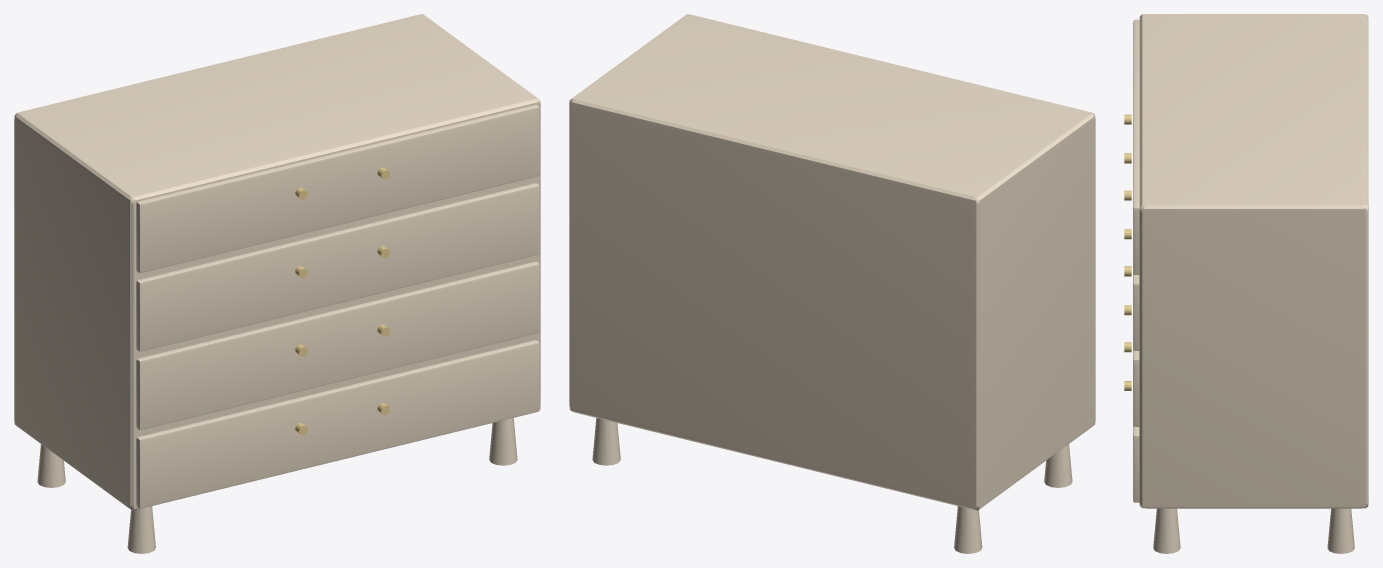
Rendered from dresser.glb.
The picture shows the model from 3 angles, left to right: view 1: azimuth 30°, elevation 25°; view 2: azimuth 150°, elevation 25°; view 3: azimuth 270°, elevation 25°; orthographic projection. The views are drawn at different scales.
Parts seen in each view (by area): view 1: Cube, Cube.004, Cube.003, Cube.001, Cube.002, Cone.001, Cone.003, Cone; view 2: Cube, Cone, Cone.002, Cone.001; view 3: Cube, Cube.004, Cone.002, Cone.003, Cube.002, Cube.001, Cube.003.
Boxes of the visible parts, x1,y1,x2,y2 form: Cube: (14, 14, 540, 510); Cube.004: (136, 104, 539, 273); Cube.003: (136, 183, 539, 351); Cube.001: (136, 340, 539, 508); Cube.002: (136, 261, 539, 429); Cone.001: (127, 506, 155, 553); Cone.003: (489, 418, 517, 465); Cone: (37, 444, 65, 487); Cube: (569, 14, 1095, 510); Cone: (954, 506, 982, 553); Cone.002: (592, 418, 620, 465); Cone.001: (1044, 444, 1072, 487); Cube: (1139, 14, 1368, 508); Cube.004: (1133, 19, 1139, 274); Cone.002: (1327, 508, 1354, 553); Cone.003: (1153, 508, 1180, 553); Cube.002: (1133, 349, 1139, 426); Cube.001: (1133, 425, 1139, 502); Cube.003: (1133, 273, 1139, 350).
Bounding box in the file's own units: 1 × 0.85 × 0.533.
